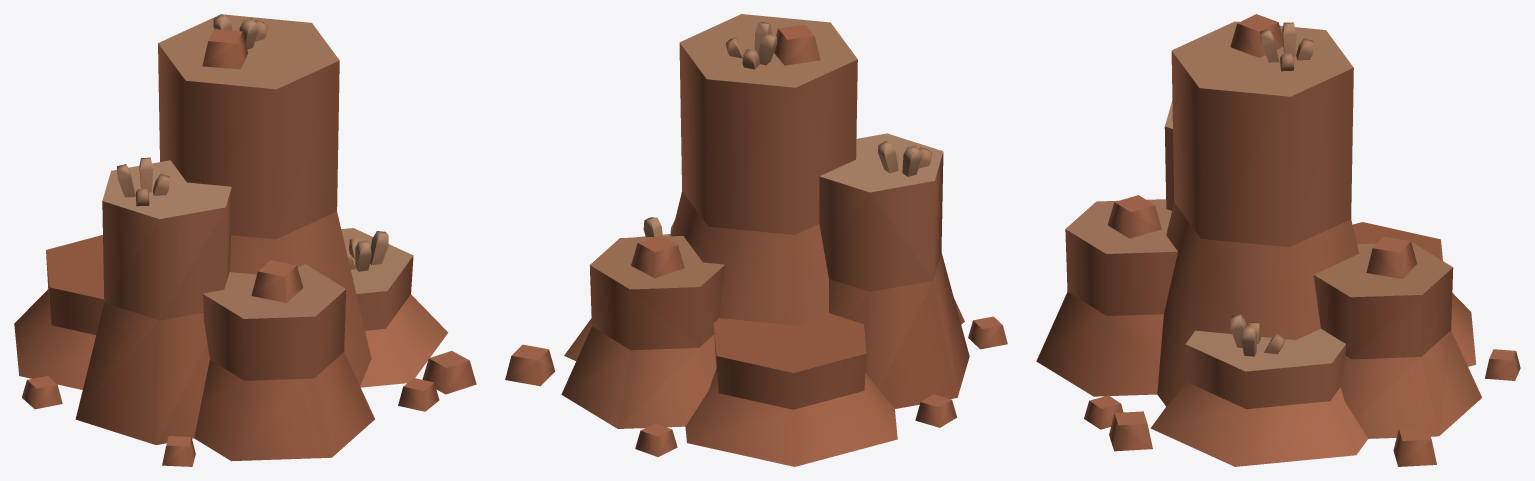
Rendered from pirate_rocks_sand_b.glb.
3 renders of one model, left to right at view 1: azimuth 30°, elevation 25°; view 2: azimuth 150°, elevation 25°; view 3: azimuth 270°, elevation 25°, orthographic. The views are drawn at different scales.
Parts seen in each view (by area): view 1: pirate_rocks_sand_b; view 2: pirate_rocks_sand_b; view 3: pirate_rocks_sand_b.
Part boxes in pixels (x1,y1,x2,y2): pirate_rocks_sand_b: [14, 14, 476, 466]; pirate_rocks_sand_b: [505, 14, 1007, 466]; pirate_rocks_sand_b: [1036, 14, 1520, 466].
Size of the model in its own units: 4.38 by 3.71 by 4.71.
